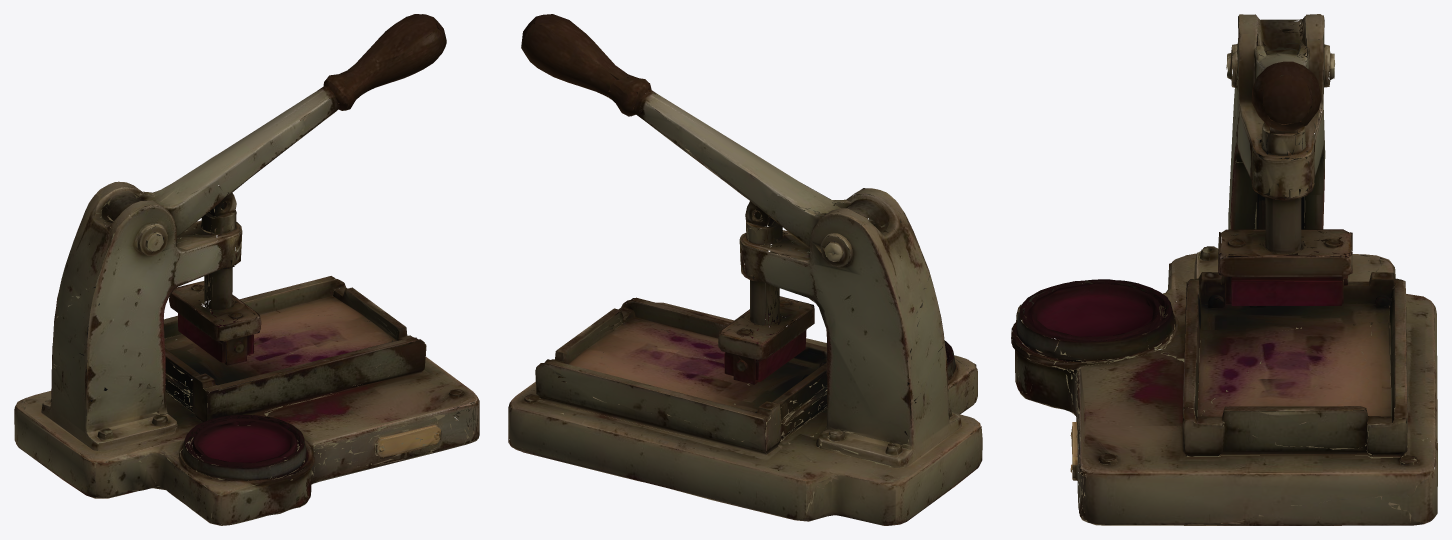
Rendered from ch03_clerk_stamp_machine.glb.
The picture shows the model from 3 angles, left to right: view 1: azimuth 30°, elevation 25°; view 2: azimuth 150°, elevation 25°; view 3: azimuth 270°, elevation 25°; orthographic projection. The views are drawn at different scales.
Parts seen in each view (by area): view 1: material; view 2: material; view 3: material.
Part boxes in pixels (bbox=[...]): material: bbox=[14, 14, 479, 525]; material: bbox=[508, 14, 982, 525]; material: bbox=[1011, 14, 1437, 525].
Size of the model in its own units: 0.847 by 0.7511 by 0.6143.
1 material, 1 textured.
